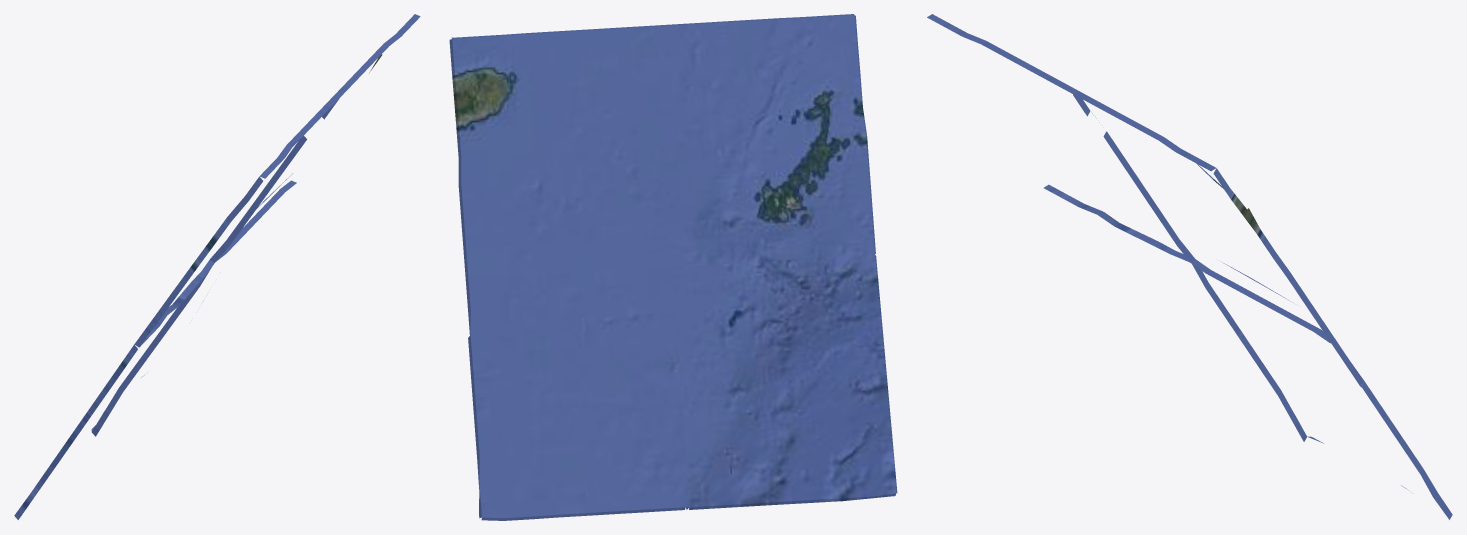
The picture shows the model from 3 angles, left to right: view 1: azimuth 30°, elevation 25°; view 2: azimuth 150°, elevation 25°; view 3: azimuth 270°, elevation 25°; orthographic projection. The views are drawn at different scales.
Bounding box in the file's own units: 315043 × 269326 × 298862.
1 material, 1 textured.
